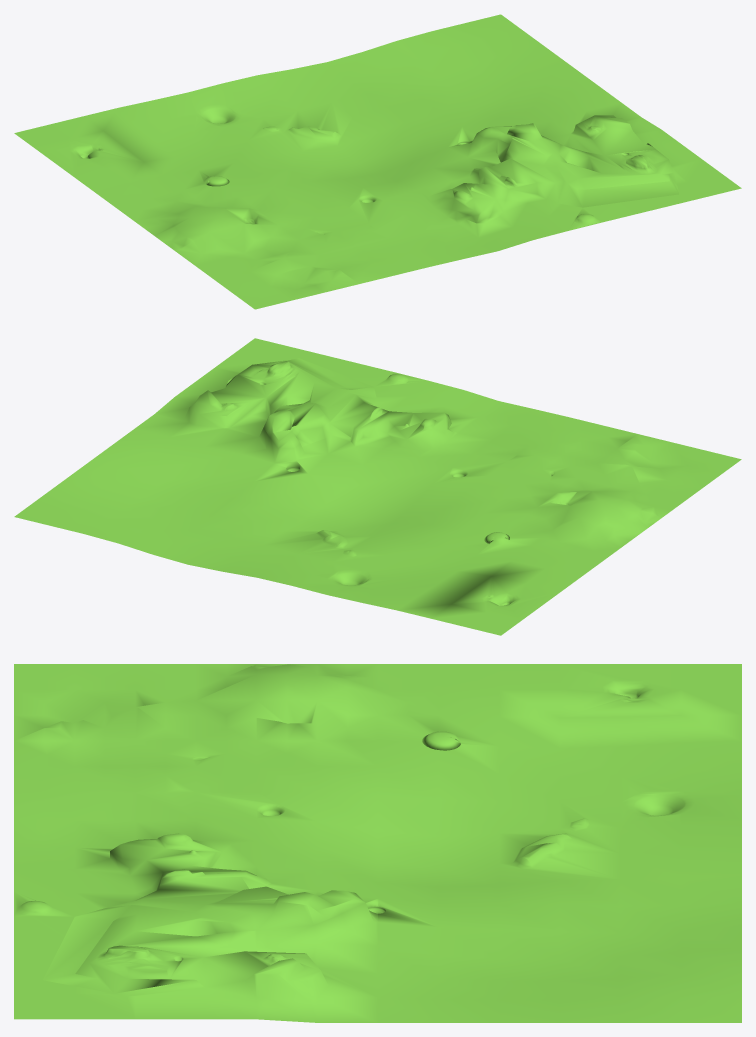
File: moon-floor.obj
3 views of the same model, one above another, from view 1: azimuth 30°, elevation 25°; view 2: azimuth 150°, elevation 25°; view 3: azimuth 270°, elevation 25° (orthographic). The views are drawn at different scales.
Parts seen in each view (by area): view 1: Layer0_001; view 2: Layer0_001; view 3: Layer0_001.
Boxes of the visible parts, x1,y1,x2,y2 form: Layer0_001: (14, 14, 741, 309); Layer0_001: (14, 338, 741, 635); Layer0_001: (14, 664, 741, 1022).
Bounding box in the file's own units: 1680 × 131 × 1440.
